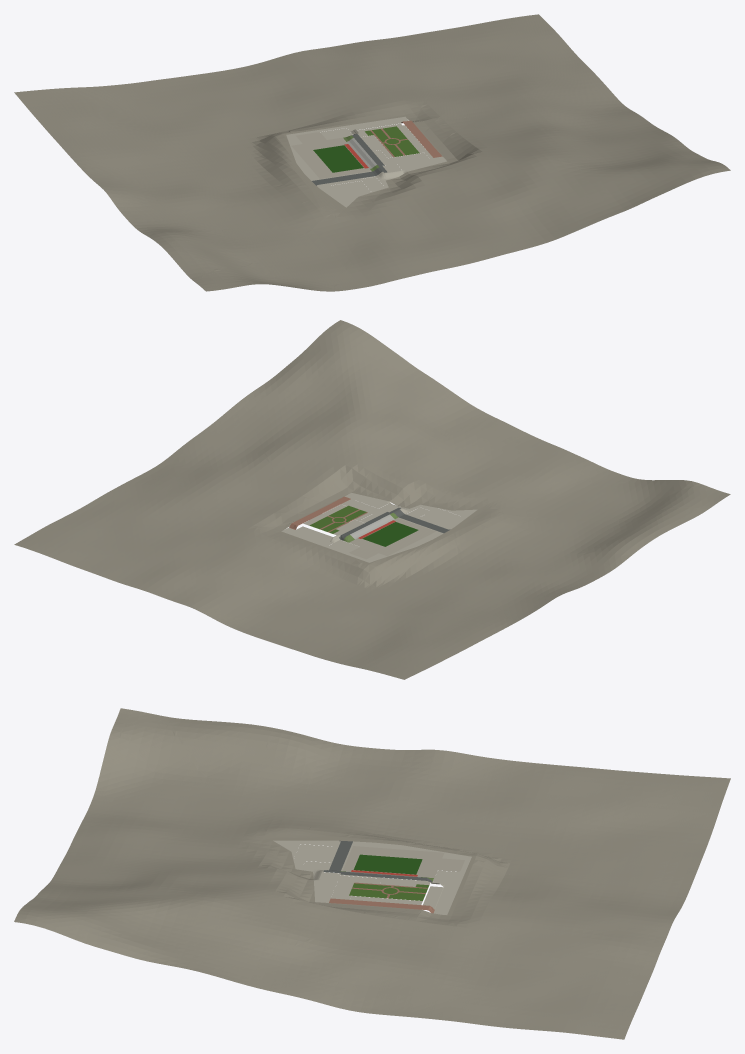
The picture shows the model from 3 angles, top to bottom: view 1: azimuth 30°, elevation 25°; view 2: azimuth 150°, elevation 25°; view 3: azimuth 270°, elevation 25°; orthographic projection. The views are drawn at different scales.
Visible parts, largest first — view 1: ground_context-estimated, surface_school-paved-walk, surface_field-apron, surface_turf, surface_garden-lawn; view 2: ground_context-estimated, surface_school-paved-walk, surface_field-apron, surface_turf; view 3: ground_context-estimated, surface_school-paved-walk, surface_field-apron, surface_turf, surface_garden-lawn, surface_ginkgo-walk.
Boxes of the visible parts, bbox=[...] form: ground_context-estimated: bbox=[14, 14, 730, 291]; surface_school-paved-walk: bbox=[286, 118, 432, 207]; surface_field-apron: bbox=[291, 137, 371, 178]; surface_turf: bbox=[313, 145, 363, 172]; surface_garden-lawn: bbox=[372, 126, 419, 156]; ground_context-estimated: bbox=[14, 320, 730, 679]; surface_school-paved-walk: bbox=[284, 499, 477, 562]; surface_field-apron: bbox=[349, 518, 435, 556]; surface_turf: bbox=[362, 522, 418, 546]; ground_context-estimated: bbox=[14, 708, 730, 1039]; surface_school-paved-walk: bbox=[273, 840, 471, 914]; surface_field-apron: bbox=[343, 846, 444, 877]; surface_turf: bbox=[353, 854, 422, 874]; surface_garden-lawn: bbox=[349, 883, 427, 900]; surface_ginkgo-walk: bbox=[329, 898, 434, 913].
Size of the model in its own units: 833 by 104 by 833.
10 materials, 8 textured.
